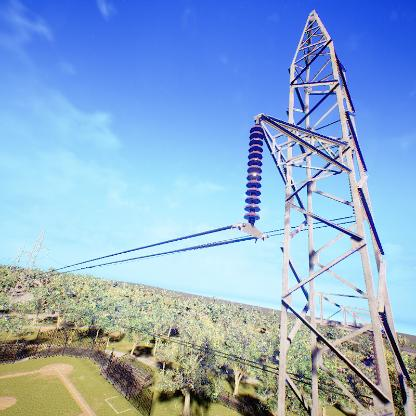insulator: (243, 125, 266, 223)
